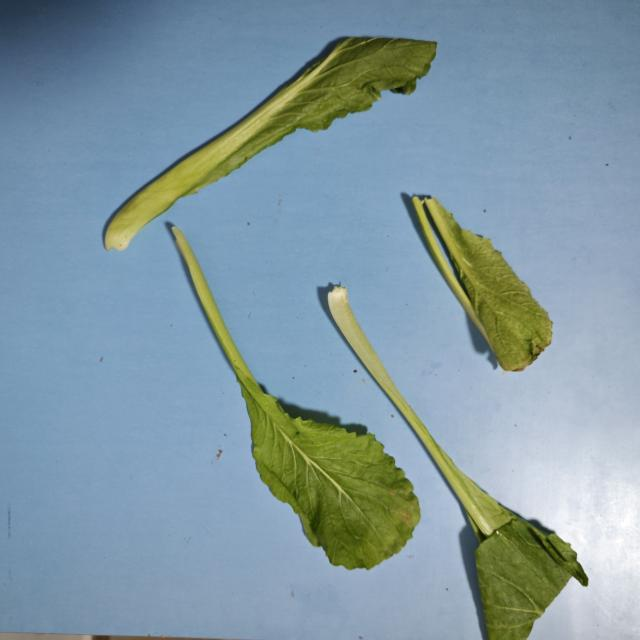-Kitchen waste - vegetable roots and leaves-: (321, 284, 588, 640), (168, 227, 419, 568), (98, 35, 432, 250), (417, 194, 555, 375)
